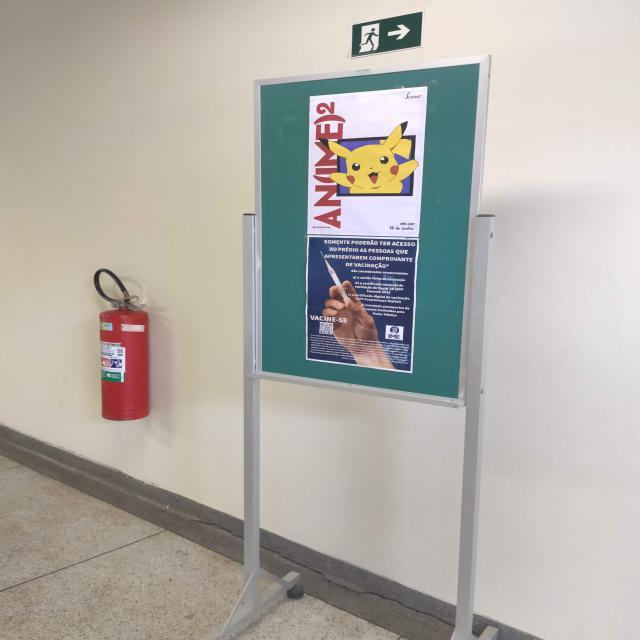qrcode: (321, 324, 333, 335)
